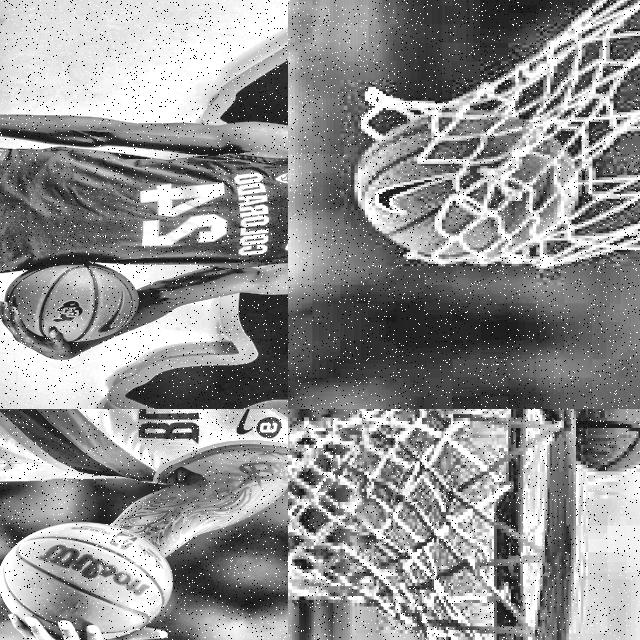Basketball: (353, 110, 577, 261), (0, 523, 172, 639), (4, 263, 137, 342)
